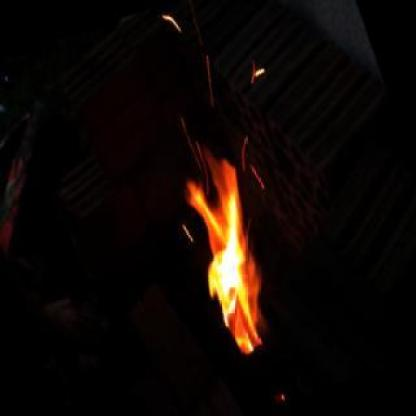Fire: (181, 161, 272, 361)
